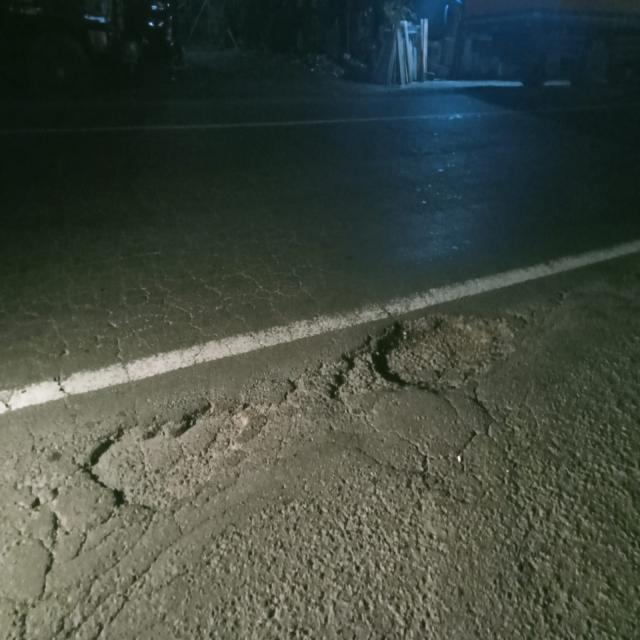Buraco: (74, 400, 253, 518), (323, 309, 522, 409)
